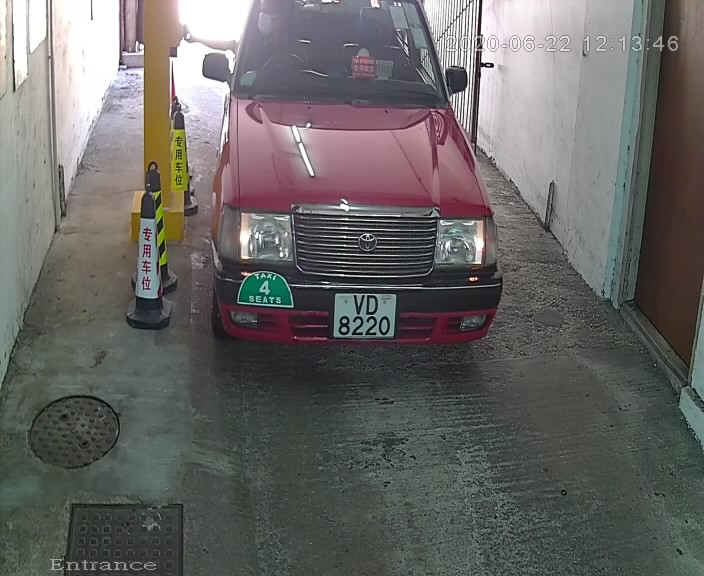taxi: (185, 2, 511, 374)
taxi_mark: (227, 264, 307, 319)
